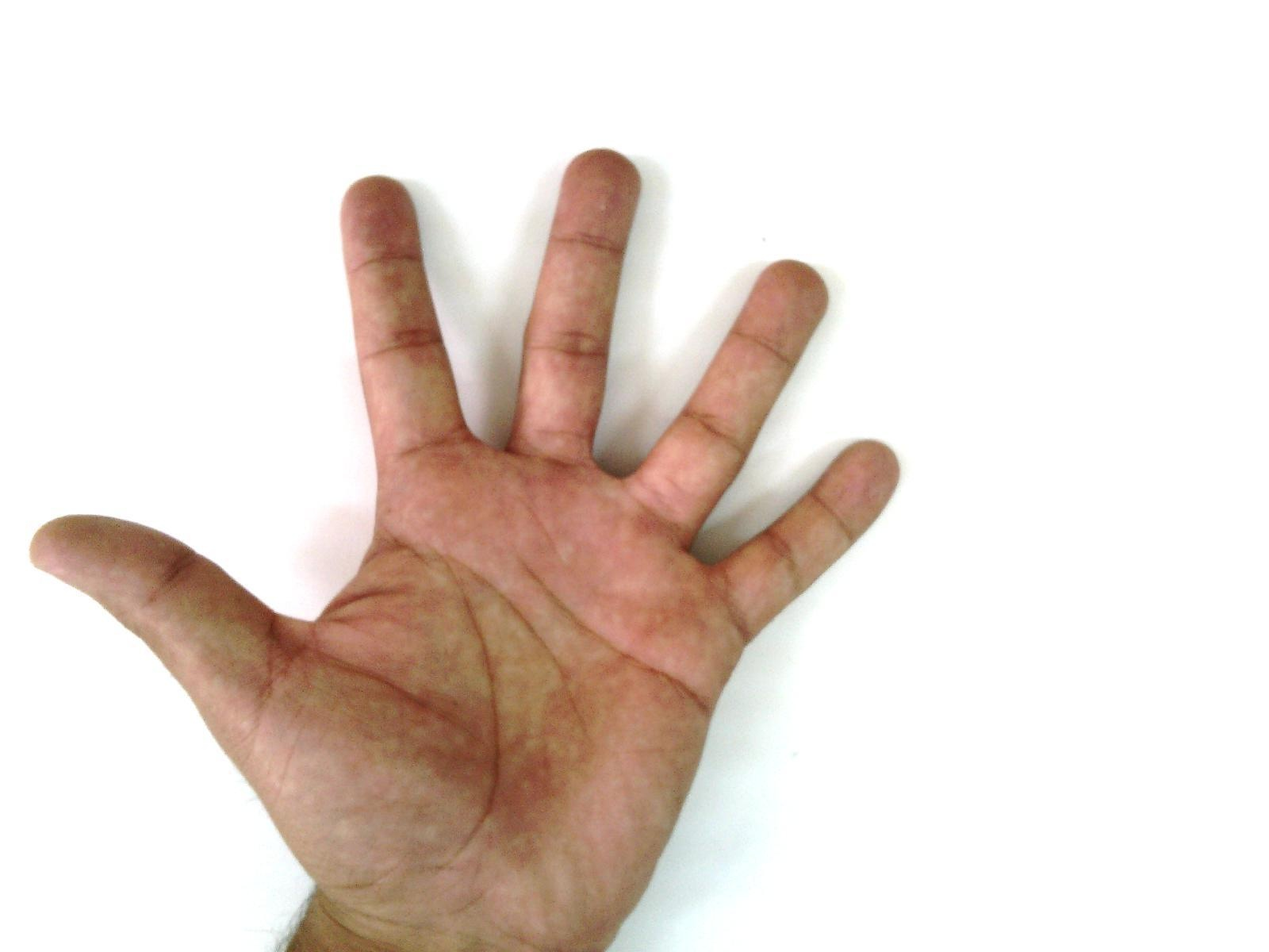open_palm: (29, 147, 903, 950)
